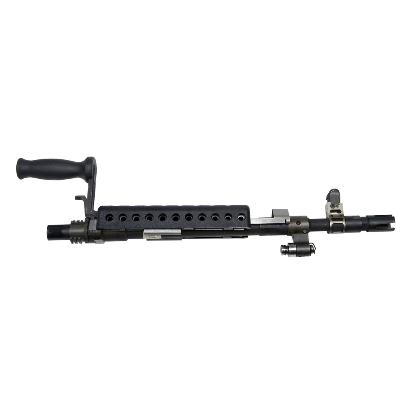gun: (15, 156, 396, 256)
